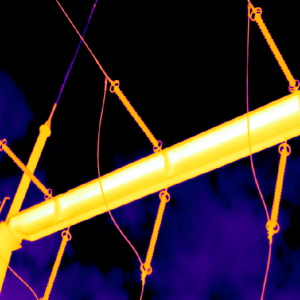insulator: (253, 10, 295, 86), (112, 83, 158, 146), (1, 142, 48, 194), (142, 194, 168, 268), (42, 233, 69, 300), (267, 146, 289, 228)
